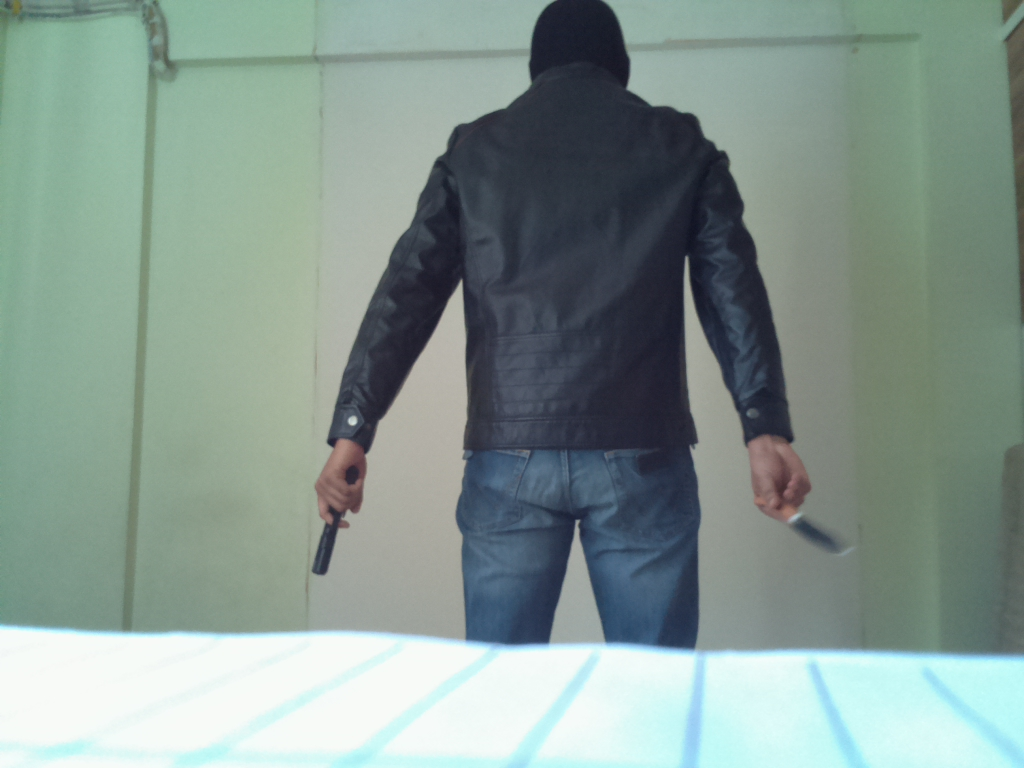gun: (308, 464, 364, 584)
